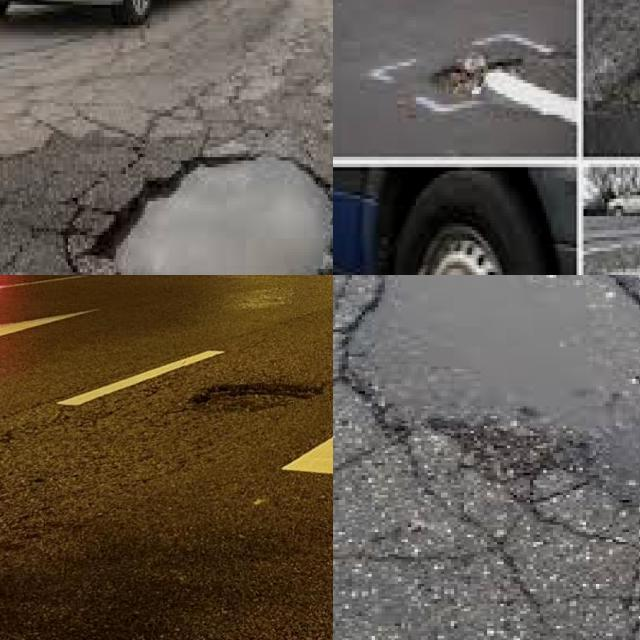Pothole: (352, 275, 640, 512), (94, 154, 333, 275), (197, 383, 322, 409)
